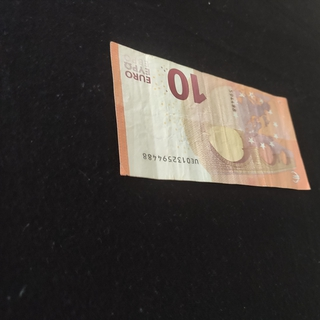10EUROBack: (109, 40, 310, 192)
